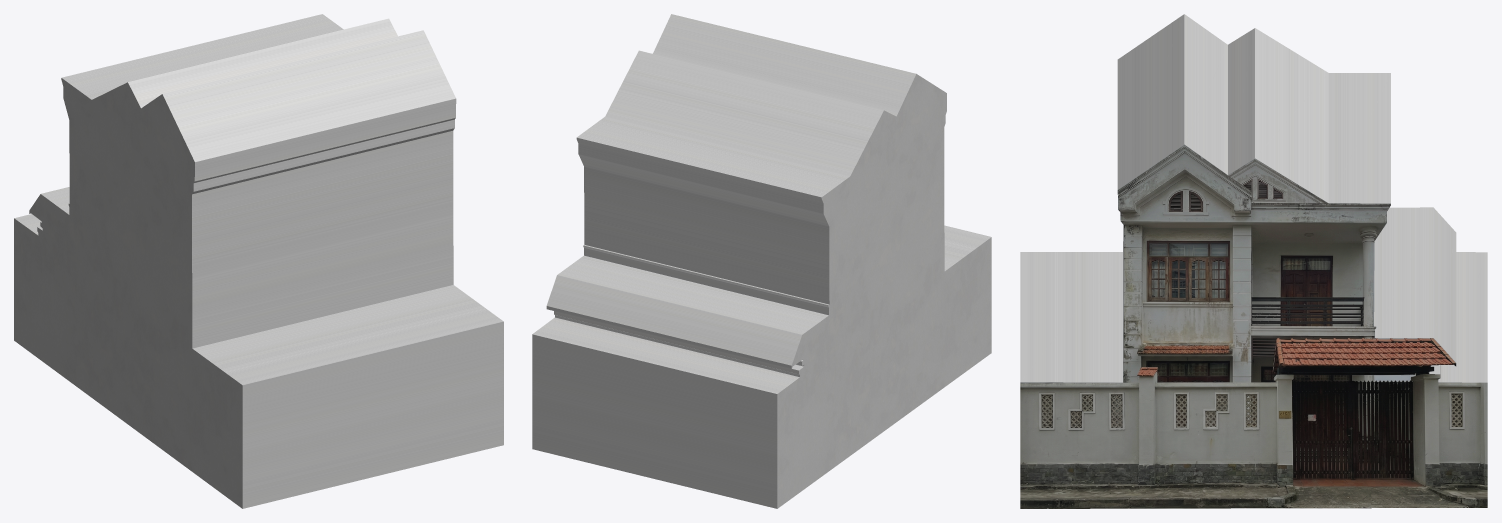
File: RefHouse15.fbx
3 renders of one model, left to right at view 1: azimuth 30°, elevation 25°; view 2: azimuth 150°, elevation 25°; view 3: azimuth 270°, elevation 25°, orthographic. The views are drawn at different scales.
Visible parts, largest first — view 1: ReferenceHouse15; view 2: ReferenceHouse15; view 3: ReferenceHouse15.
Part boxes in pixels (x1,y1,x2,y2): ReferenceHouse15: (14, 14, 503, 508); ReferenceHouse15: (532, 14, 991, 508); ReferenceHouse15: (1020, 14, 1487, 508).
Bounding box in the file's own units: 980 × 1277 × 1485.
Materials: 2 (2 with a texture image).
